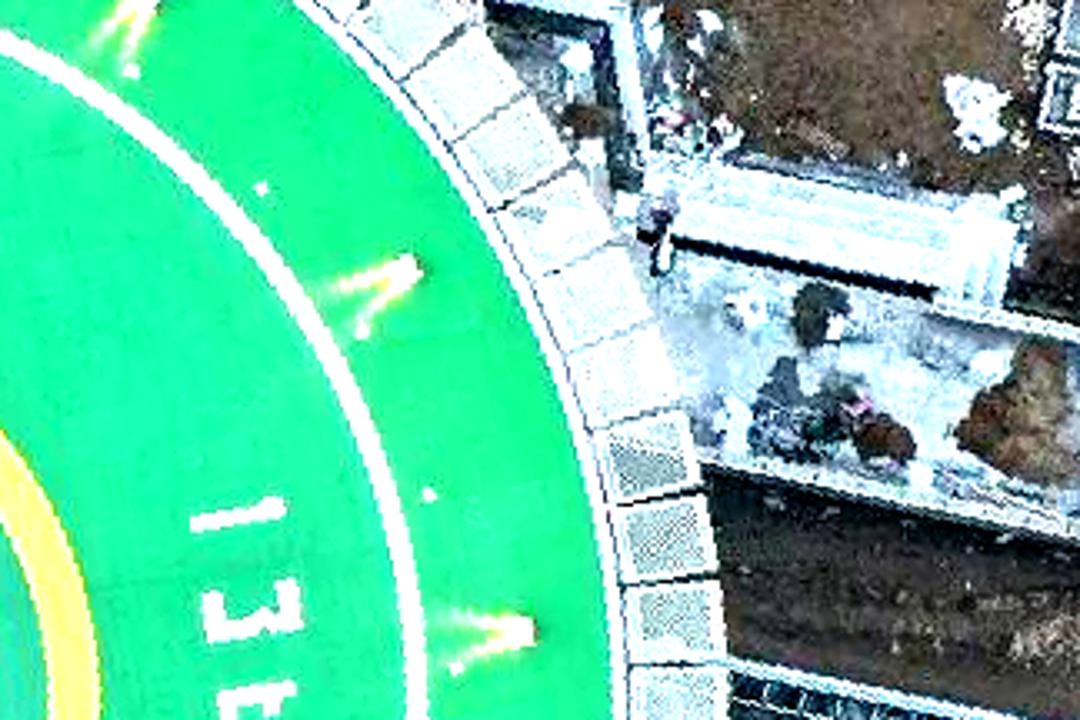Apron: (1, 418, 115, 720)
